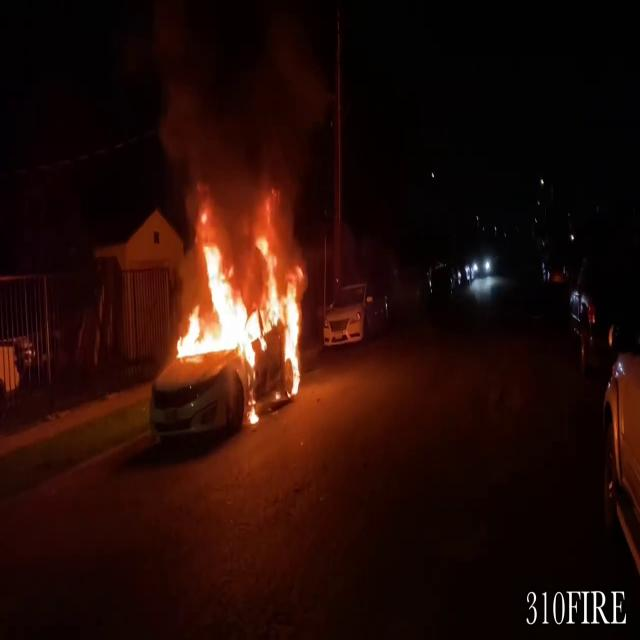Fire: (169, 183, 311, 411)
Smoke: (146, 0, 327, 222)
